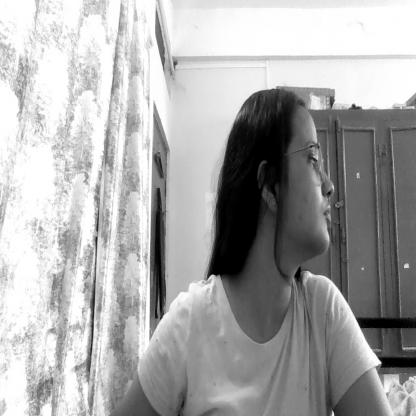Distracted: (244, 98, 336, 259)
